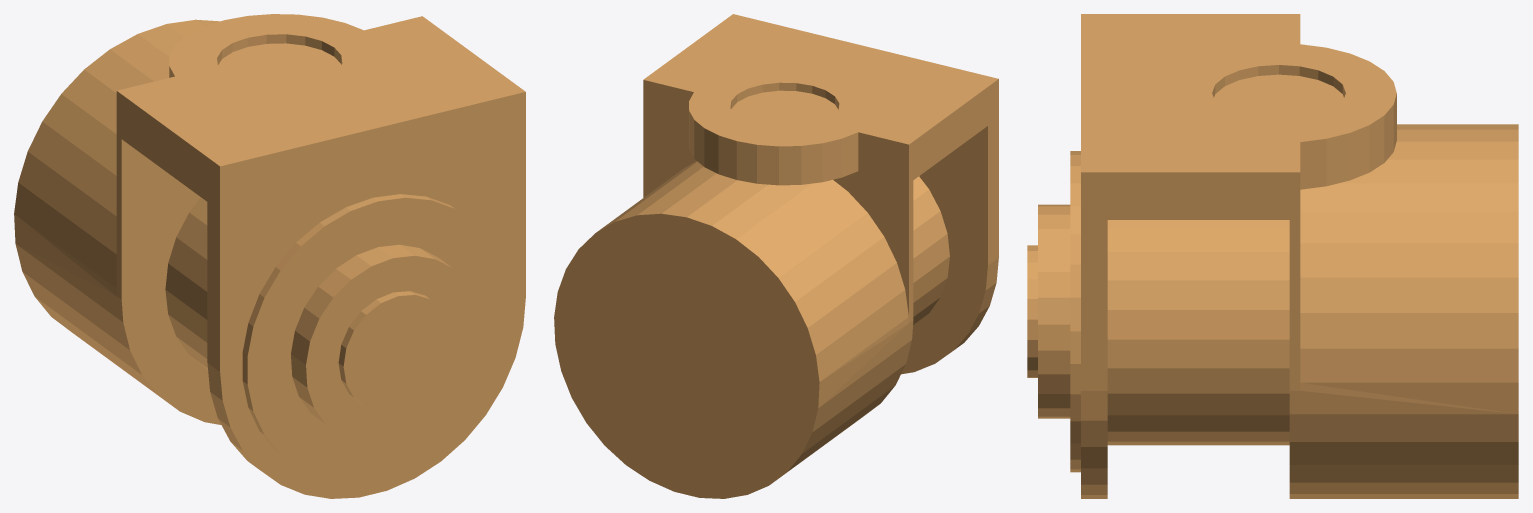
File: test_leg21_visual_vis_1.dae
3 views of the same model, side by side, from view 1: azimuth 30°, elevation 25°; view 2: azimuth 150°, elevation 25°; view 3: azimuth 270°, elevation 25° (orthographic). The views are drawn at different scales.
Parts seen in each view (by area): view 1: Node_000002AD2EA23360; view 2: Node_000002AD2EA23360; view 3: Node_000002AD2EA23360.
Part boxes in pixels (left/top/right/bottom): Node_000002AD2EA23360: left=14, top=14, right=525, bottom=498; Node_000002AD2EA23360: left=554, top=14, right=998, bottom=498; Node_000002AD2EA23360: left=1027, top=14, right=1518, bottom=498.
Bounding box in the file's own units: 0.07 × 0.0799 × 0.0917.
